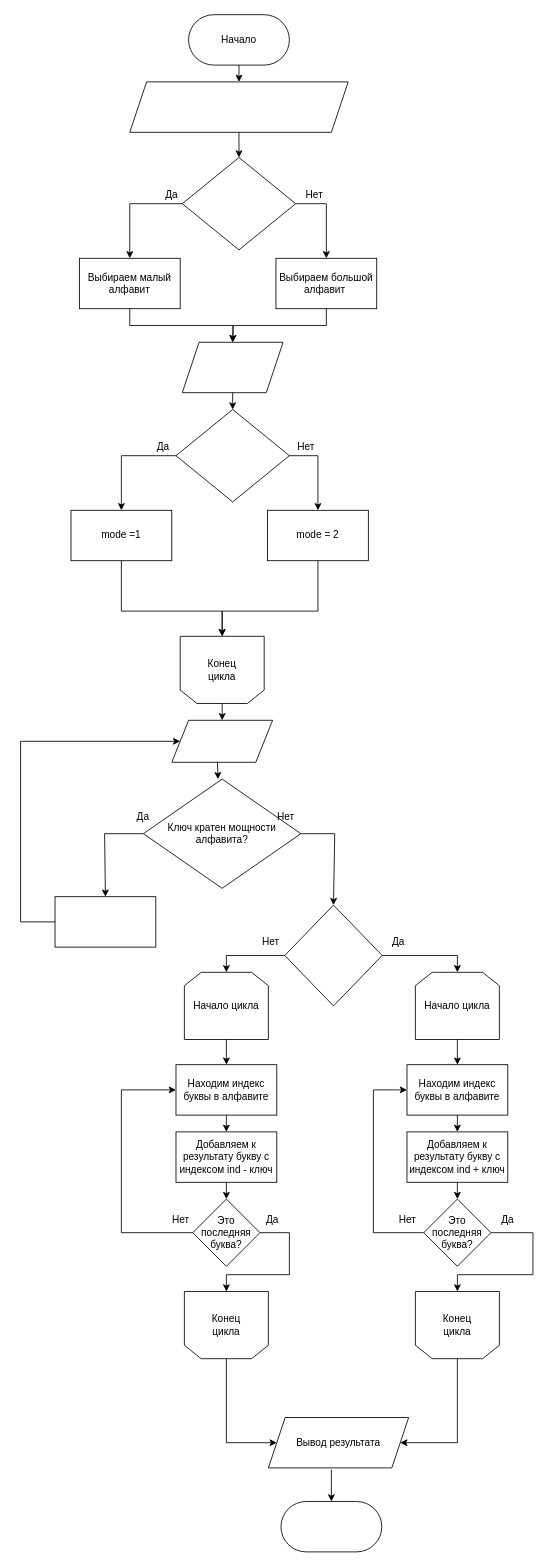
This 554x1567 diagram has some shape labels left out. The shapes that lost their labels are listed below. From the top down, each one's centre as x and y in pixels, then its label:
point 238,106: выбор работы с карточкой или большим текстом
point 238,203: Работа с карточкой ?
point 232,367: выбор режима
point 232,455: Расшифрование?
point 222,740: Ввод ключа
point 105,921: Выводим сообщение об ошибке
point 333,955: mode =1?
point 331,1526: Конец
